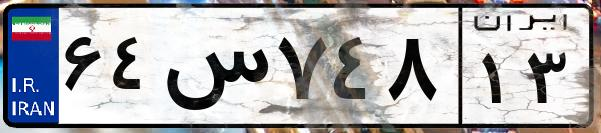1: (475, 38, 525, 113)
3: (525, 38, 570, 115)
4: (330, 28, 385, 110), (110, 28, 158, 98)
6: (57, 26, 110, 100)
7: (270, 28, 330, 110)
8: (385, 28, 445, 110)
س: (158, 20, 270, 120)
